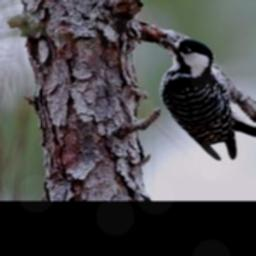Woodpecker: (153, 34, 256, 161)
